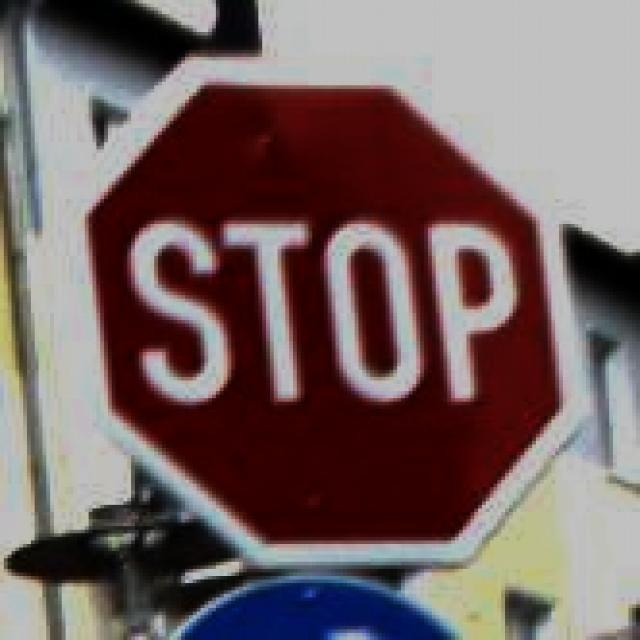stop_sign: (54, 53, 586, 587)
